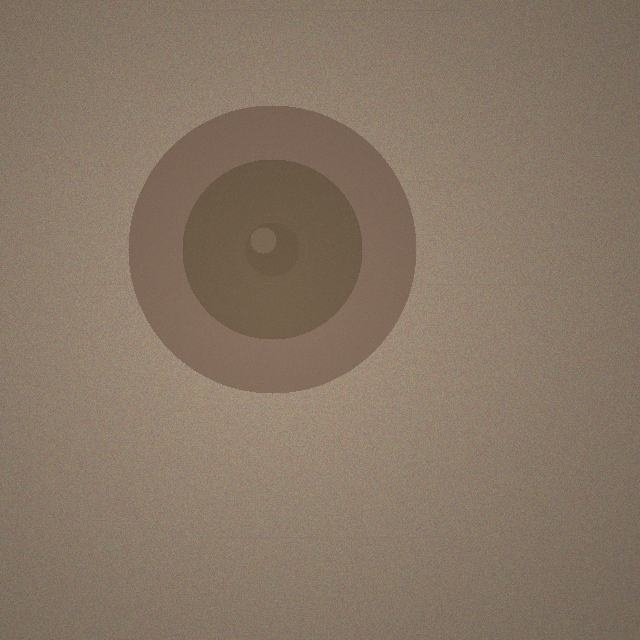good: (128, 105, 416, 393)
